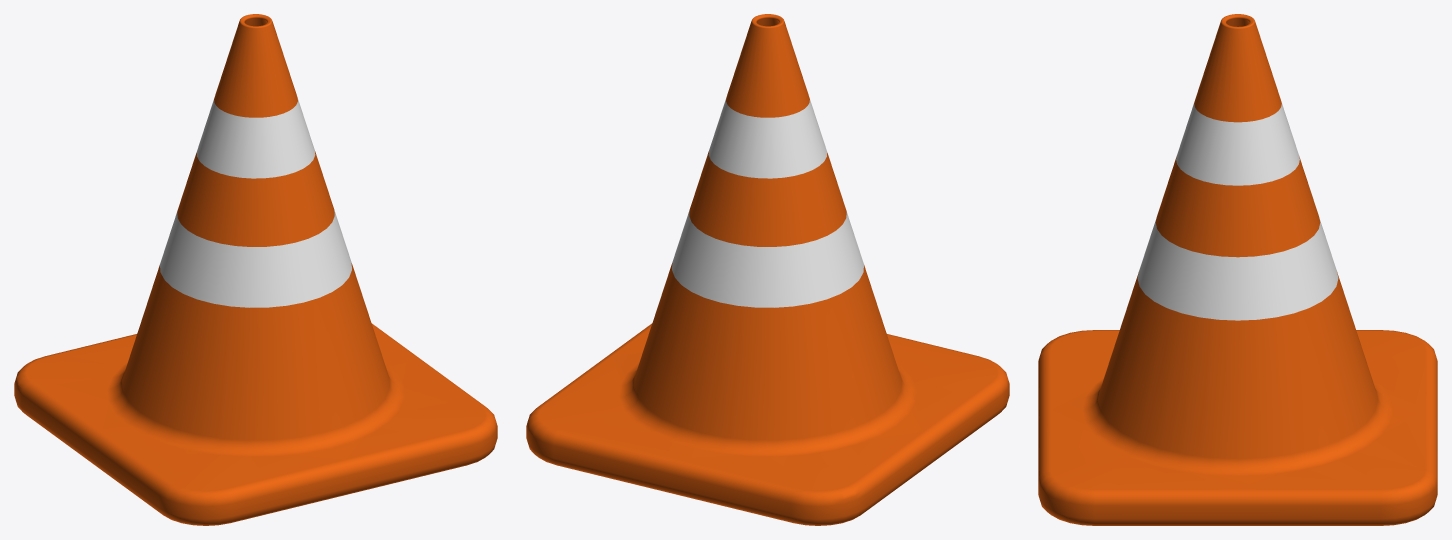
The model's file is Конус.fbx.
3 views of the same model, side by side, from view 1: azimuth 30°, elevation 25°; view 2: azimuth 150°, elevation 25°; view 3: azimuth 270°, elevation 25° (orthographic). The views are drawn at different scales.
Visible parts, largest first — view 1: Куб; view 2: Куб; view 3: Куб.
Part boxes in pixels (x1=…): Куб: x1=14, y1=14, x2=497, y2=525; Куб: x1=526, y1=14, x2=1009, y2=525; Куб: x1=1038, y1=14, x2=1437, y2=525.
Bounding box in the file's own units: 127 × 150 × 127.
